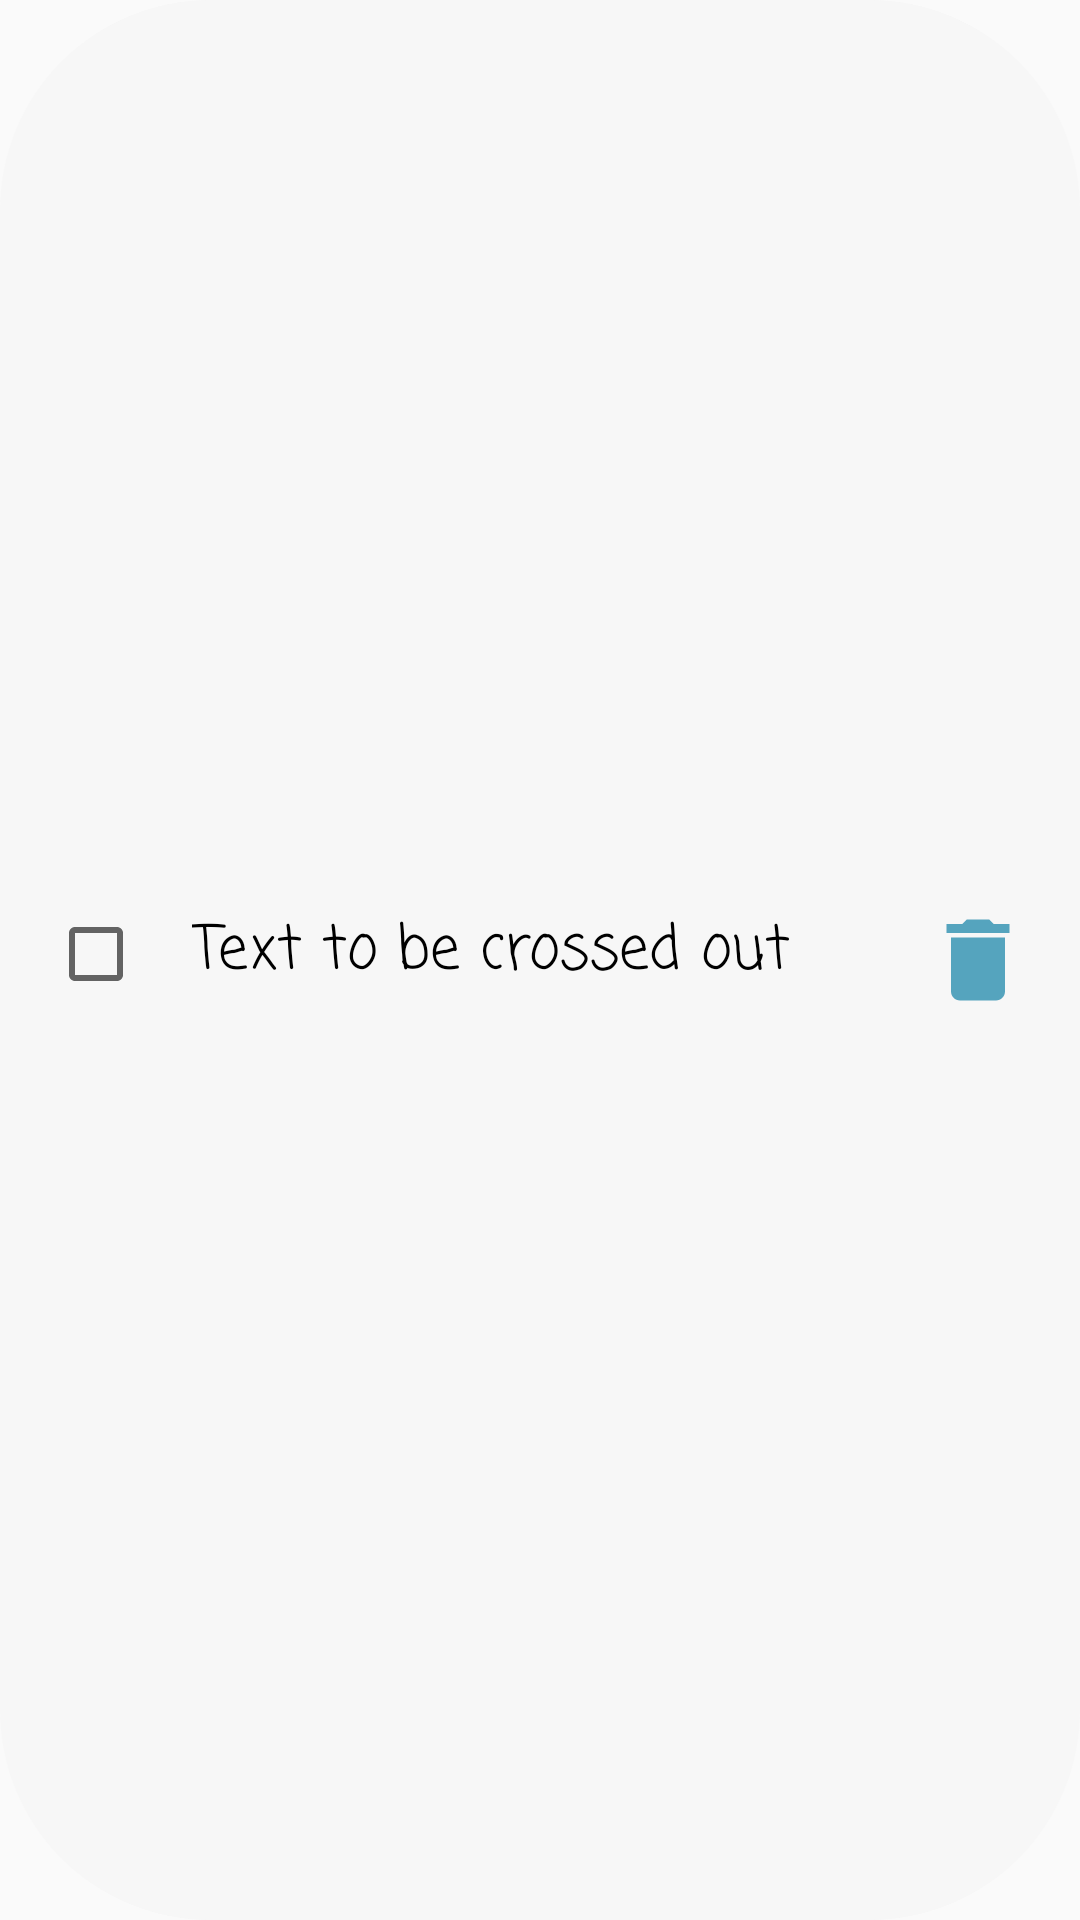

Icon click points for this 1080 x 1920 phone screenshot, format (x,y):
delete: (978,960)
